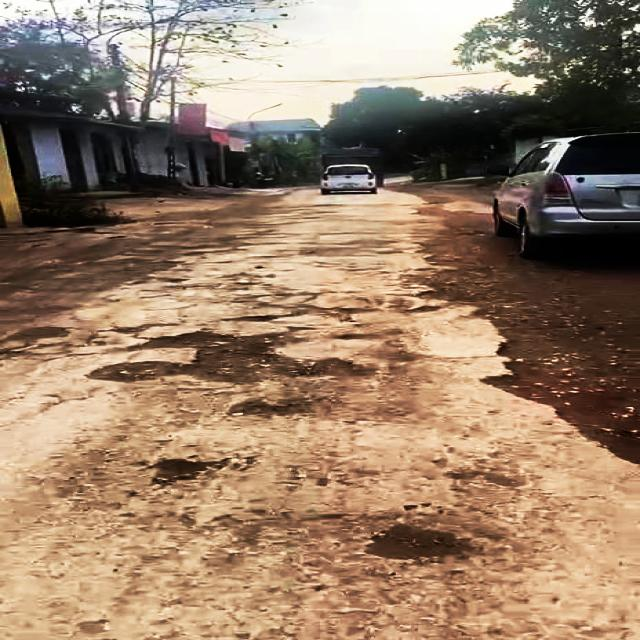pothole: (484, 336, 640, 462), (83, 331, 371, 384), (353, 520, 469, 558), (399, 277, 517, 306), (226, 395, 328, 421), (0, 324, 70, 361), (139, 454, 215, 486), (225, 311, 291, 324)
